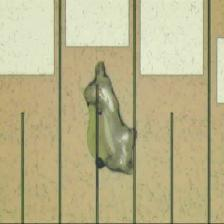PARTICLE: (83, 59, 139, 178)
